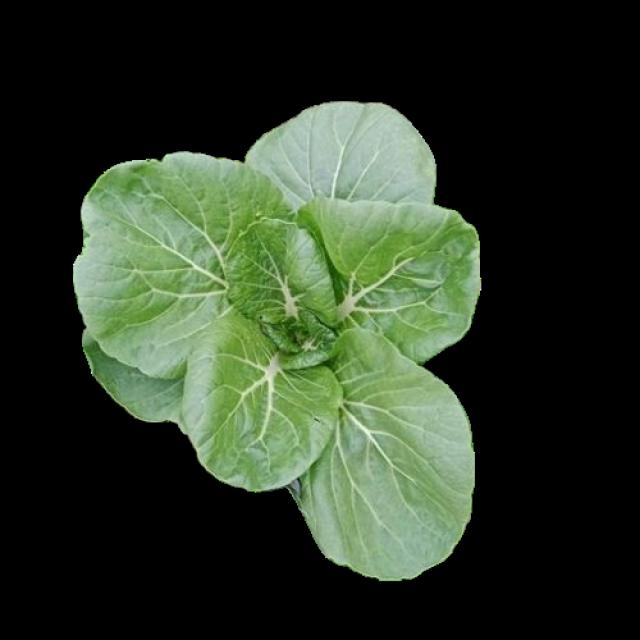healthy: (72, 97, 475, 575)
mature: (75, 100, 478, 577)
